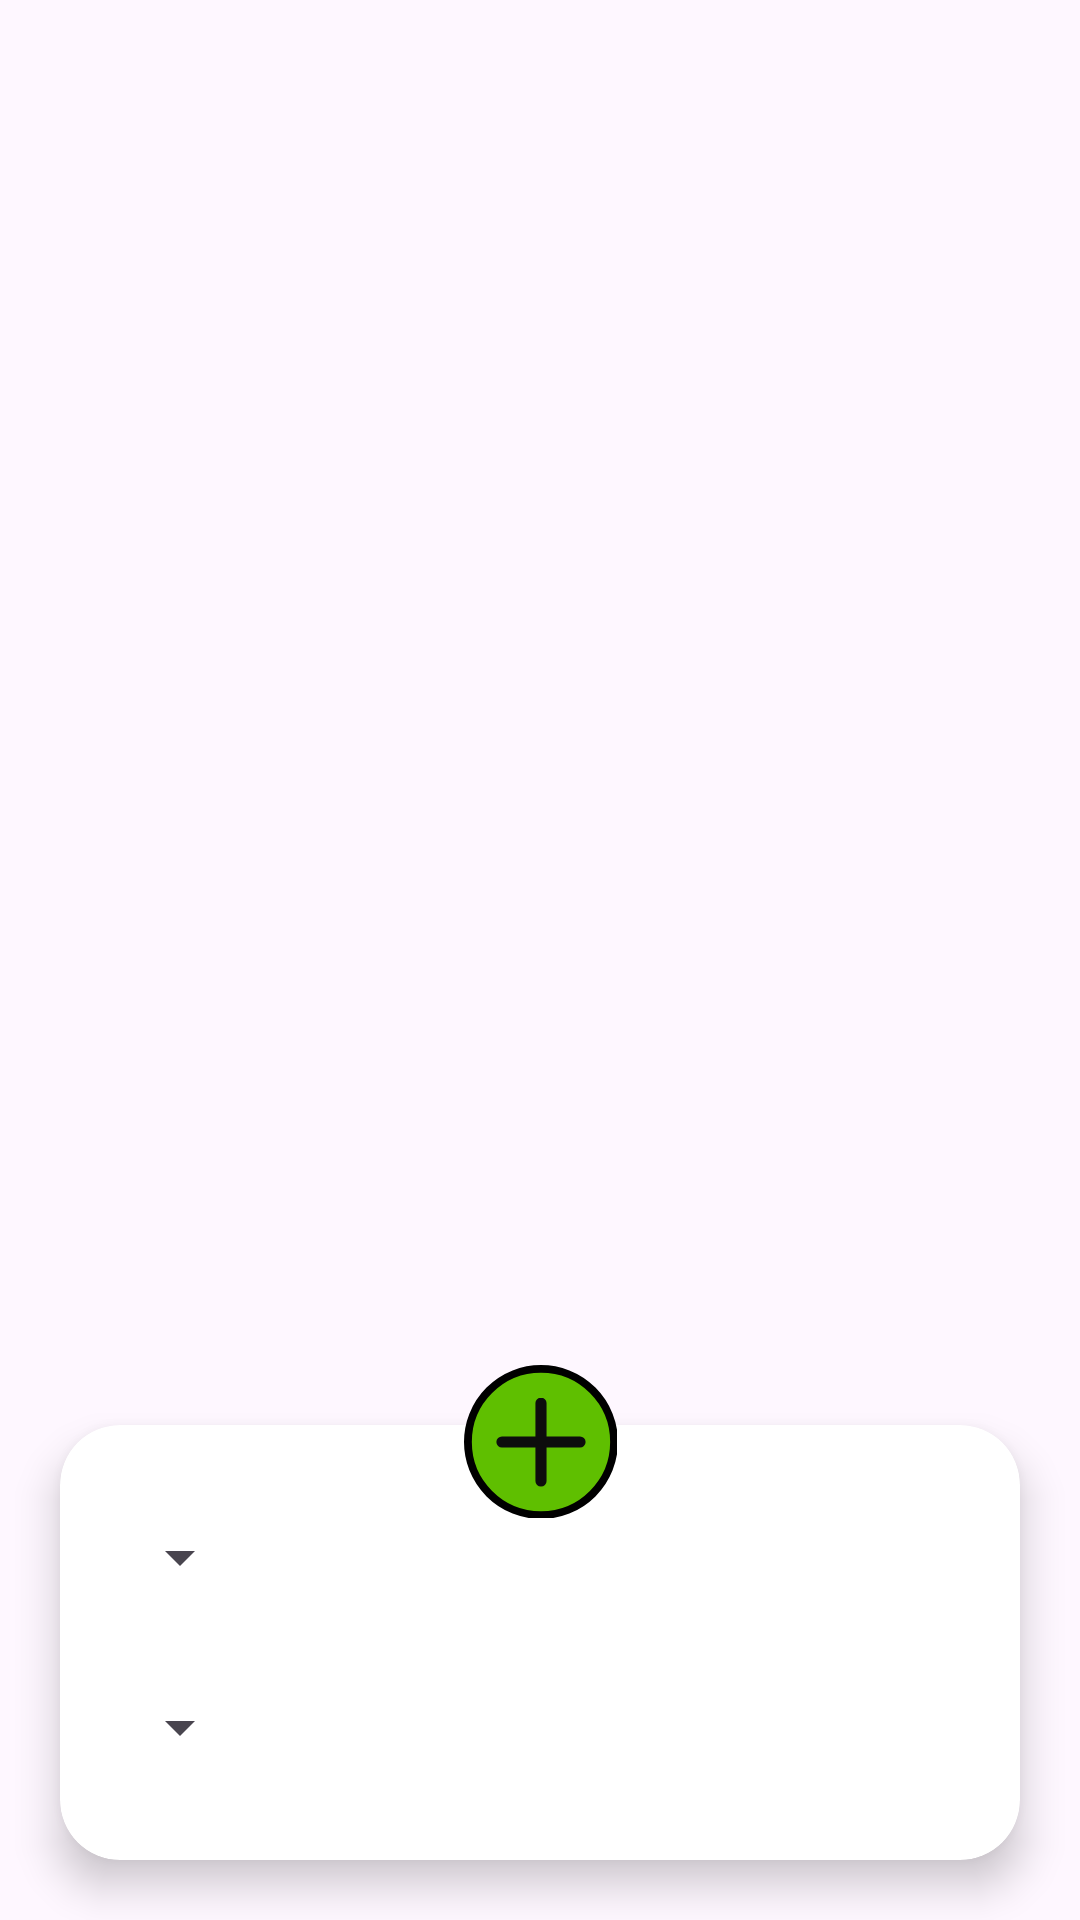

Where icons sit on this 1080x1920 app screen, as (x1, y1, x2, y2):
Add Item: (464, 1365, 617, 1518)
